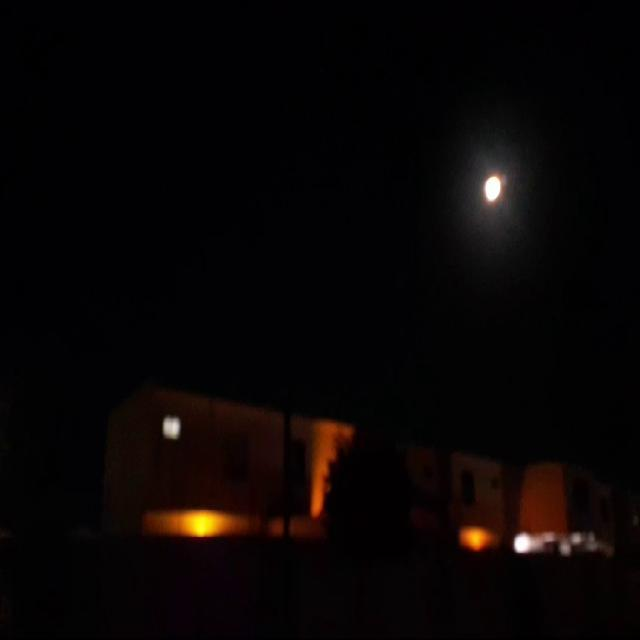moon: (480, 170, 503, 204)
